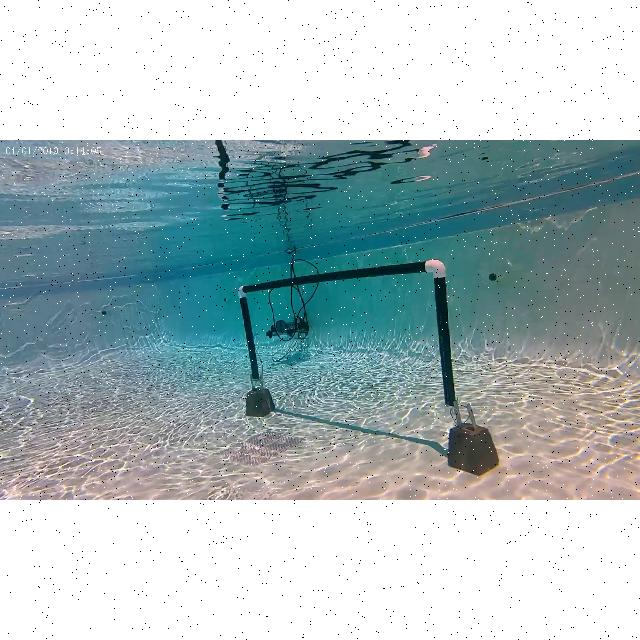prequal gate: (238, 260, 460, 408)
prequal gate leg l: (233, 280, 269, 394)
prequal gate leg r: (419, 255, 461, 415)
